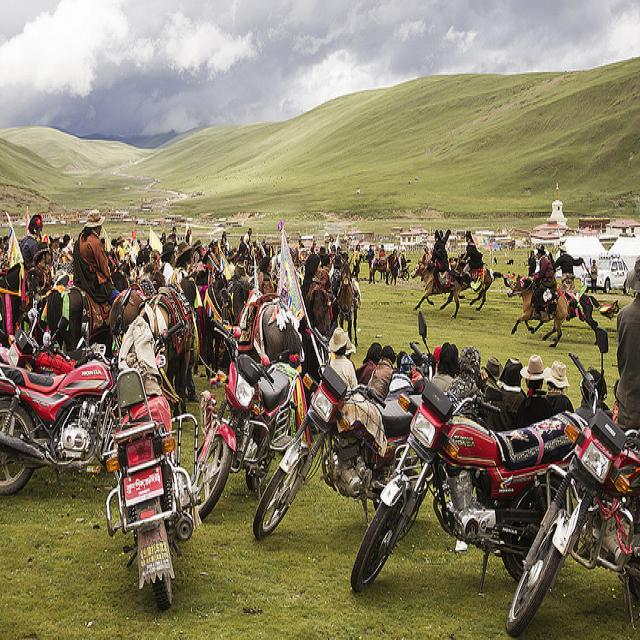motor: (352, 314, 577, 597), (505, 354, 640, 633), (253, 327, 422, 542), (98, 314, 201, 621), (193, 320, 301, 523), (9, 309, 94, 374), (46, 316, 95, 368), (398, 259, 411, 281)
